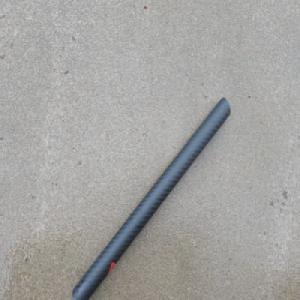LuggagePart: (70, 96, 230, 300)
